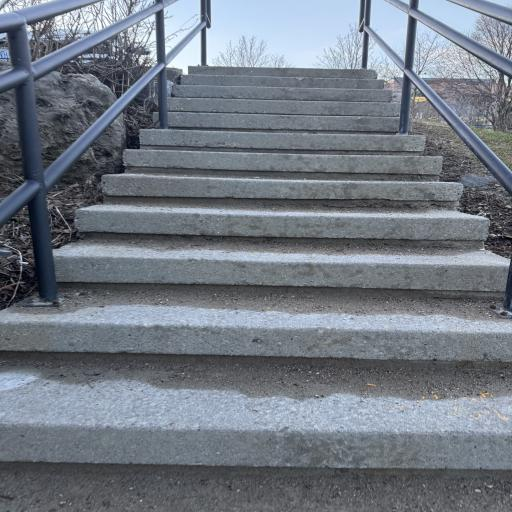Stairs: (0, 67, 512, 469)
